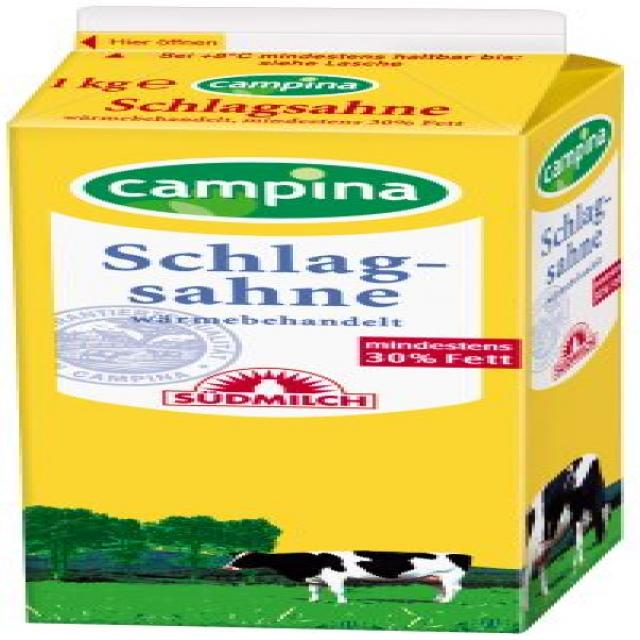Cream: (10, 7, 621, 633)
